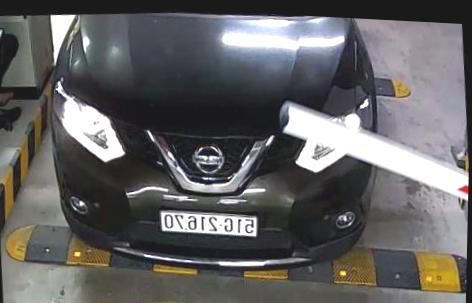License_Plate: (159, 205, 259, 246)
